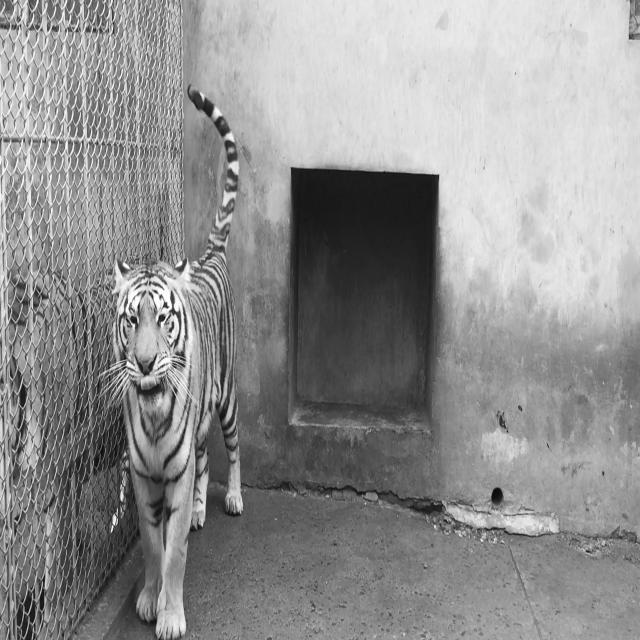Tiger: (98, 81, 244, 638)
